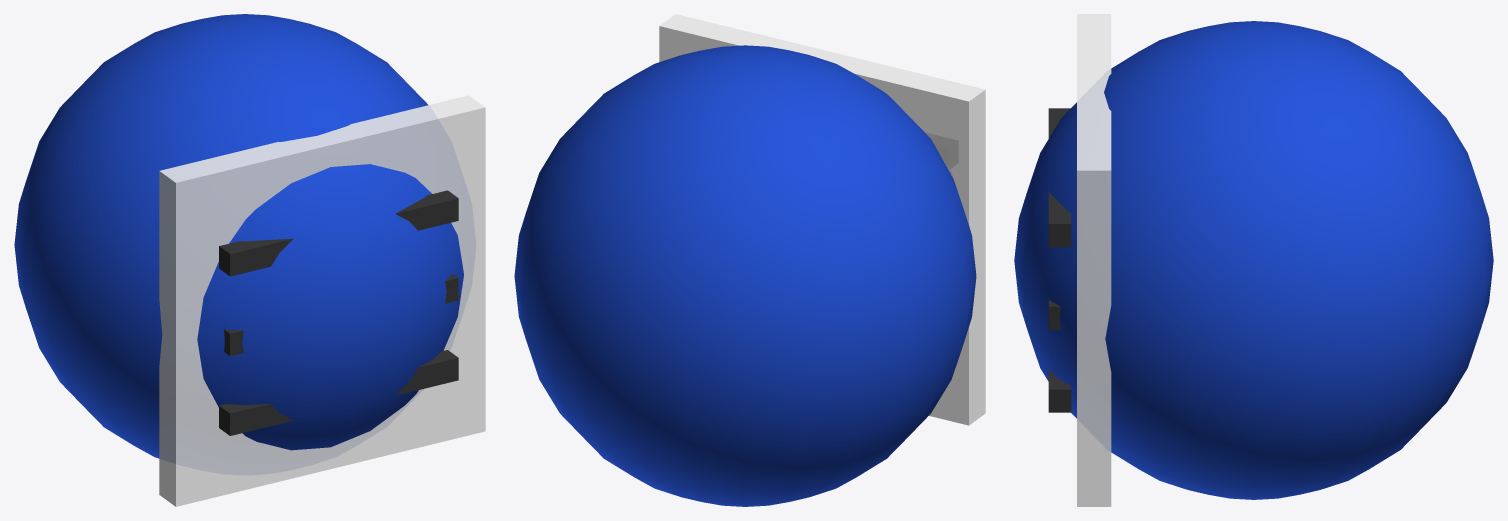
File: drain.glb
3 renders of one model, left to right at view 1: azimuth 30°, elevation 25°; view 2: azimuth 150°, elevation 25°; view 3: azimuth 270°, elevation 25°, orthographic. The views are drawn at different scales.
Parts seen in each view (by area): view 1: drain; view 2: drain; view 3: drain.
Part boxes in pixels (x1,y1,x2,y2): drain: (14,14,485,506); drain: (514,14,985,506); drain: (1014,14,1493,506).
Bounding box in the file's own units: 0.84 × 0.84 × 0.84.
